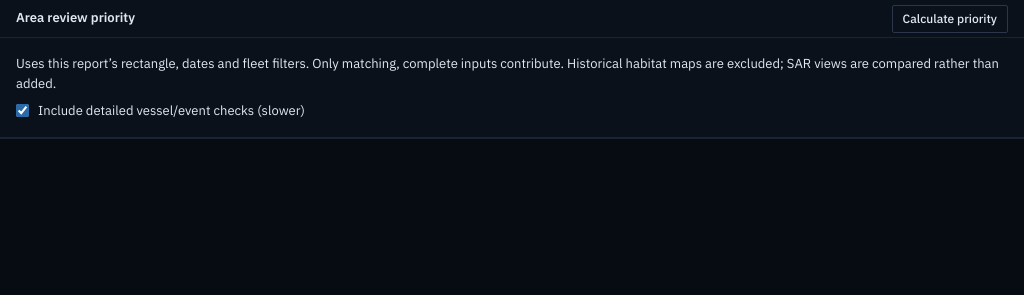
uses the report rectangle, dates and filters and labels incomplete results honestly
The image size is (1024, 295).
Click the button "Calculate priority" at (950, 18), box [892,4,1008,32]
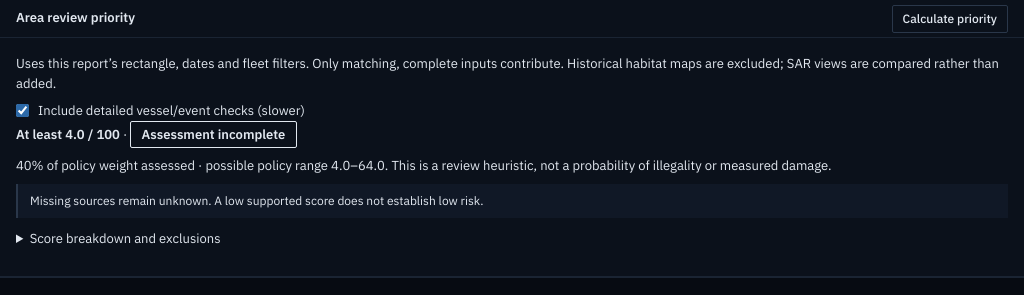
Check: the text "Assessment incomplete" is shown, box [130,120,297,148]
